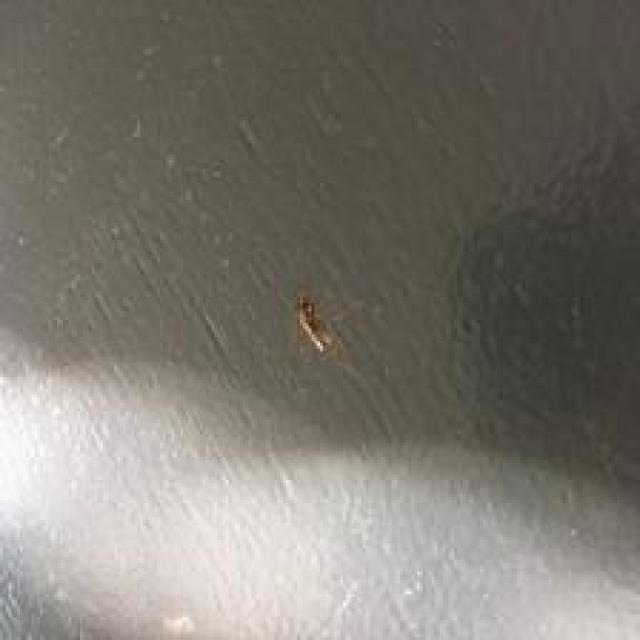Culex: (294, 294, 334, 354)
